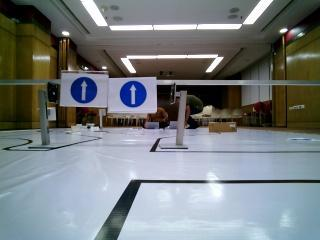straight: (110, 77, 156, 112), (65, 70, 106, 104)
